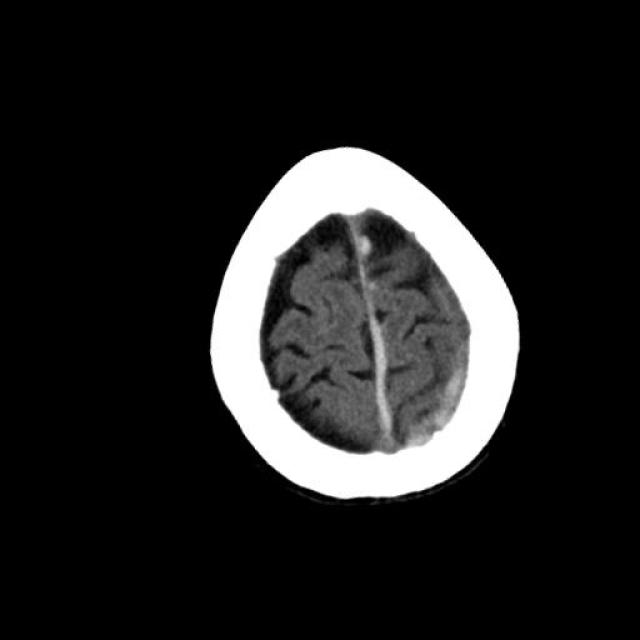Subdural: (318, 302, 428, 478)
